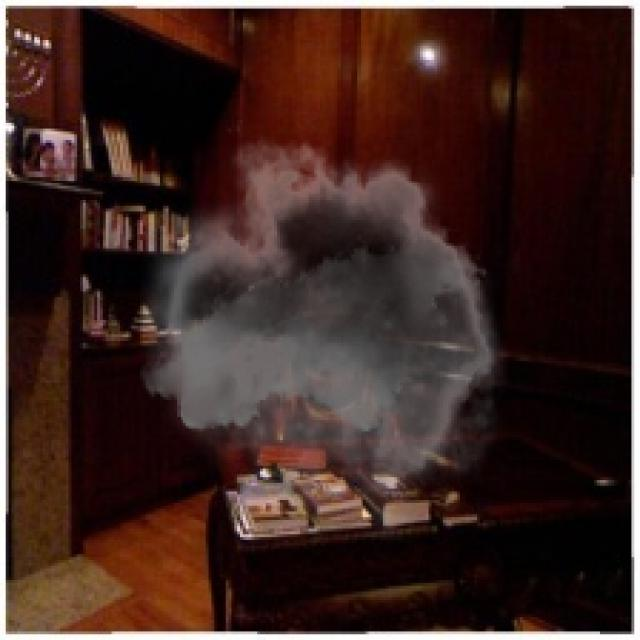smoke: (140, 120, 520, 543)
